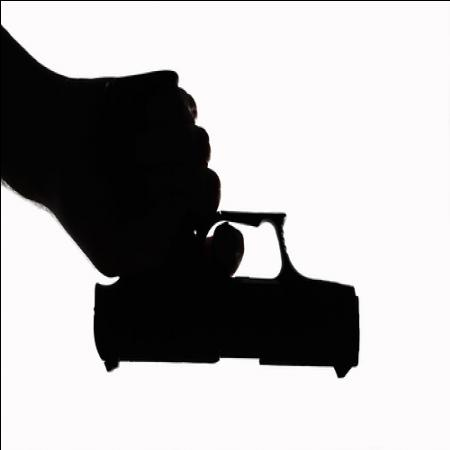Pistol: (89, 71, 359, 379)
